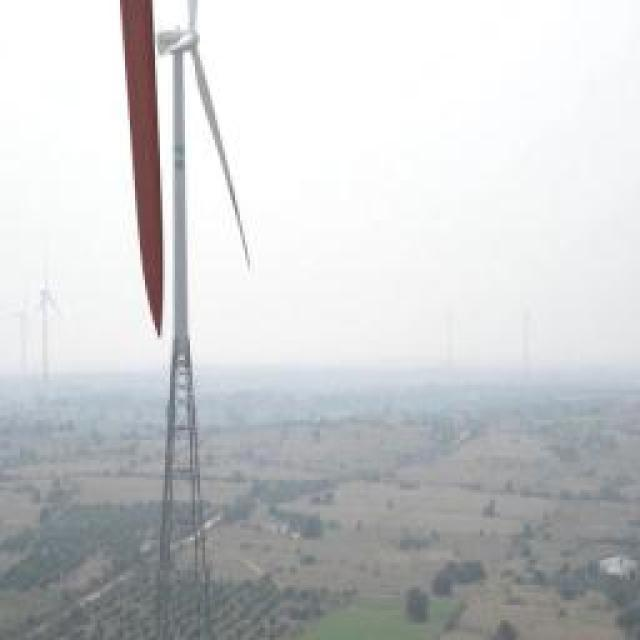Dirt: (118, 0, 170, 333)
